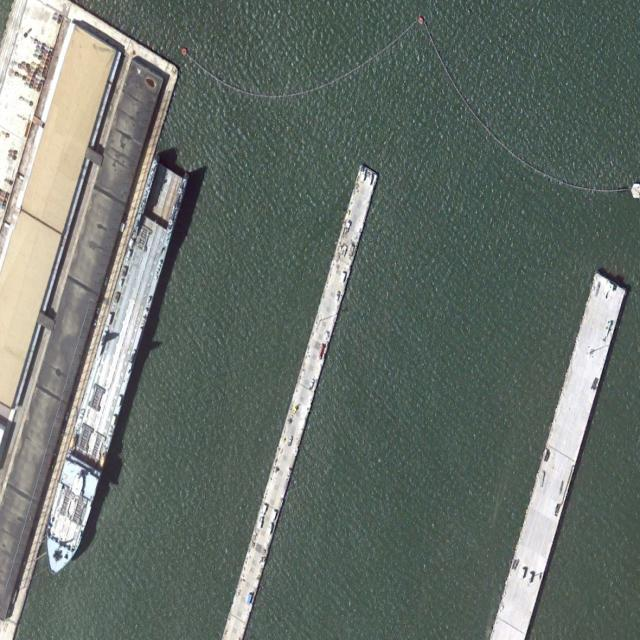Cargo: (34, 155, 189, 587)
